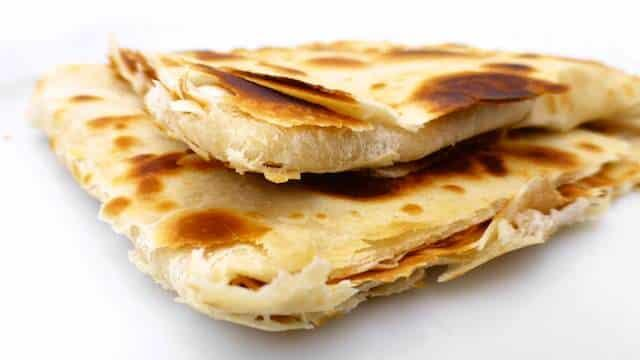chapati: (32, 41, 640, 331)
